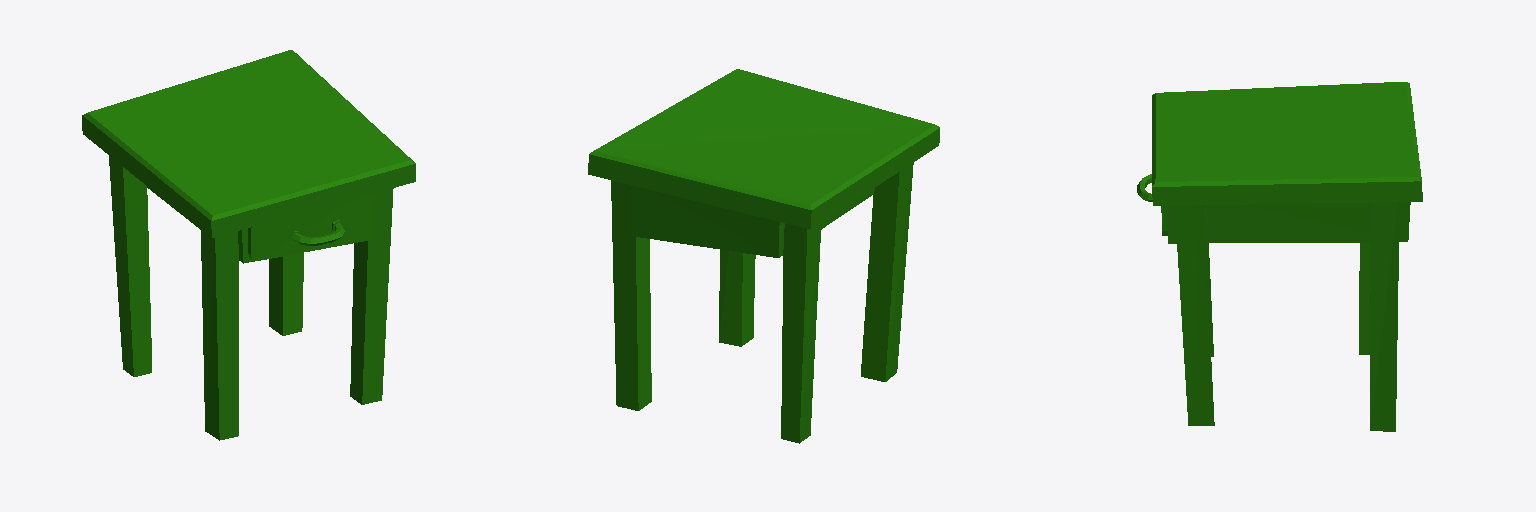
File: Bedtable.obj
3 views of the same model, side by side, from view 1: azimuth 30°, elevation 25°; view 2: azimuth 150°, elevation 25°; view 3: azimuth 270°, elevation 25° (orthographic).
Parts seen in each view (by area): view 1: Bedtable; view 2: Bedtable; view 3: Bedtable.
Part boxes in pixels (left/top/right/bottom): Bedtable: left=82, top=50, right=415, bottom=440; Bedtable: left=588, top=69, right=939, bottom=443; Bedtable: left=1137, top=82, right=1422, bottom=431.
Size of the model in its own units: 62.99 by 72.23 by 71.77.